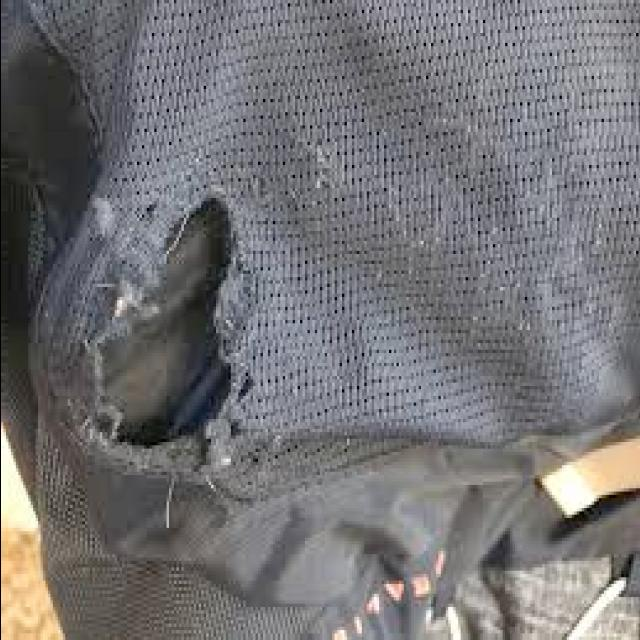Damage-bag: (36, 157, 256, 472)
